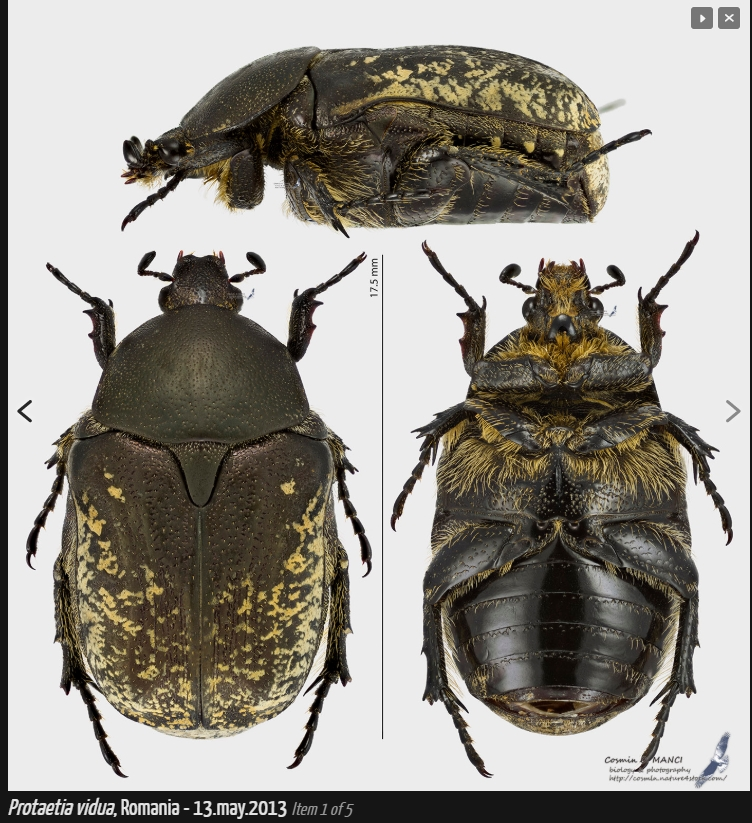Protaetia_vidua: (22, 241, 383, 783)
